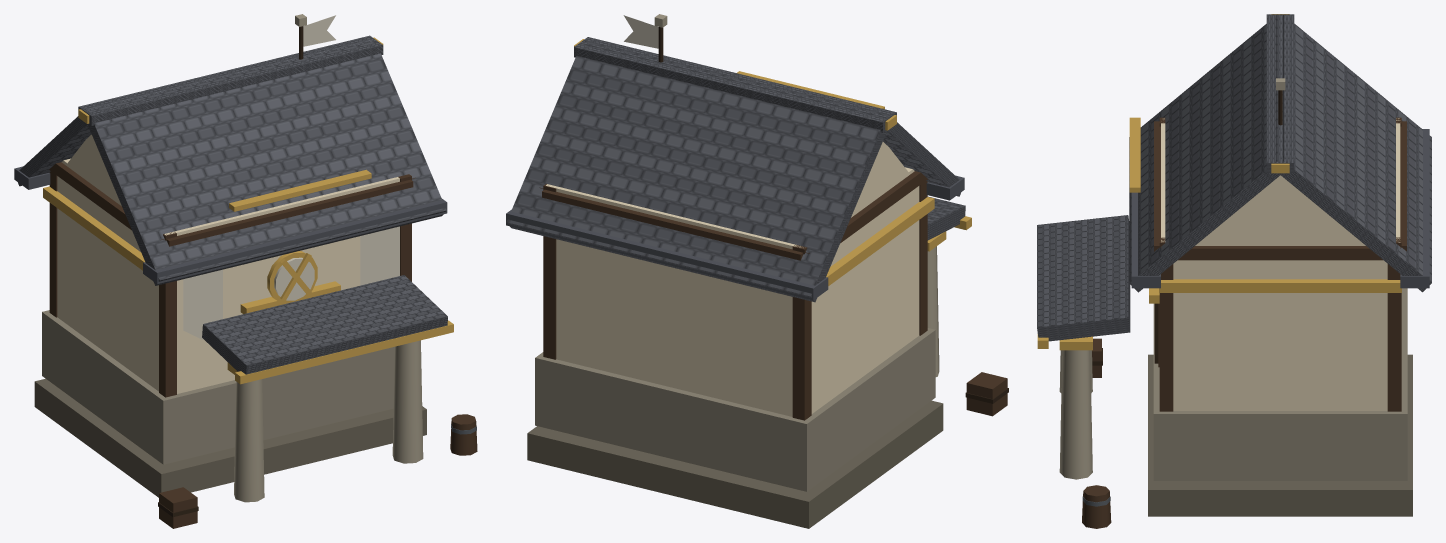
File: elite-L2.glb
3 views of the same model, side by side, from view 1: azimuth 30°, elevation 25°; view 2: azimuth 150°, elevation 25°; view 3: azimuth 270°, elevation 25° (orthographic). The views are drawn at different scales.
Parts seen in each view (by area): view 1: building-elite-L2; view 2: building-elite-L2; view 3: building-elite-L2.
Part boxes in pixels (x1,y1,x2,y2): building-elite-L2: [14, 14, 477, 528]; building-elite-L2: [506, 14, 1008, 528]; building-elite-L2: [1037, 14, 1431, 528].
Bounding box in the file's own units: 2 × 2.35 × 2.08.
11 materials, 1 textured.
